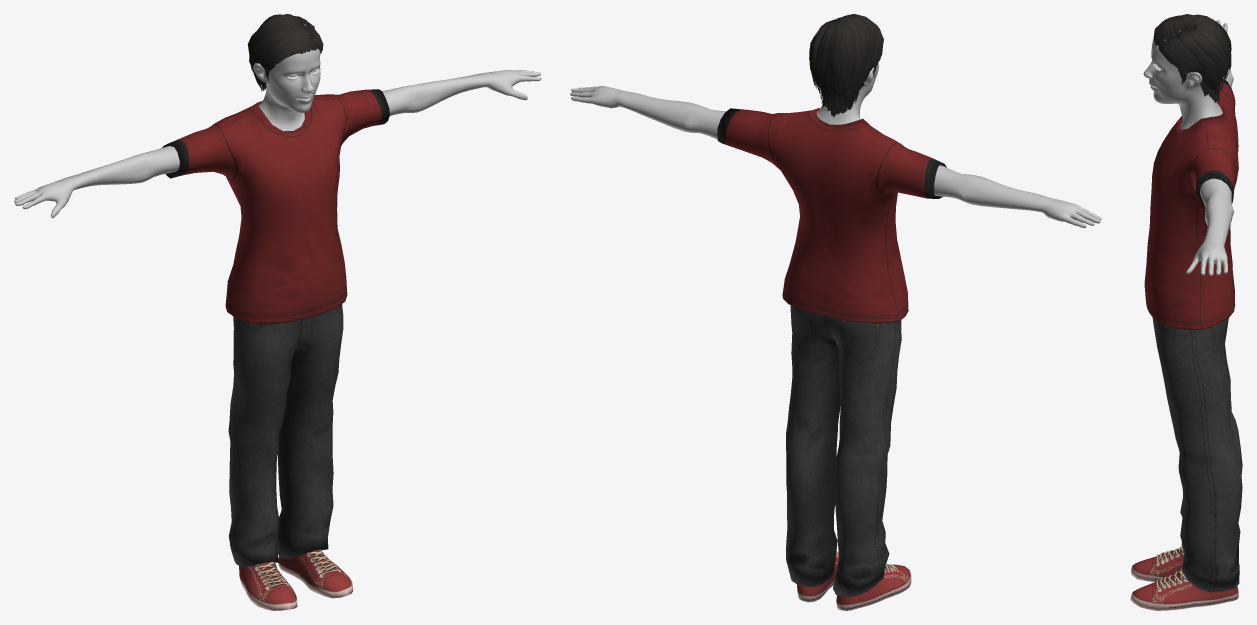
The model's file is visitante.obj.
3 renders of one model, left to right at view 1: azimuth 30°, elevation 25°; view 2: azimuth 150°, elevation 25°; view 3: azimuth 270°, elevation 25°, orthographic.
Parts seen in each view (by area): view 1: Tops, Bottoms, Body, Shoes, Hair; view 2: Bottoms, Tops, Body, Hair, Shoes; view 3: Bottoms, Tops, Body, Hair, Shoes.
Boxes of the visible parts, bbox=[...] form: Tops: bbox=[162, 89, 389, 324]; Bottoms: bbox=[228, 304, 343, 567]; Body: bbox=[14, 24, 541, 218]; Shoes: bbox=[239, 549, 352, 610]; Hair: bbox=[247, 14, 323, 91]; Bottoms: bbox=[786, 305, 901, 597]; Tops: bbox=[717, 108, 946, 322]; Body: bbox=[570, 63, 1101, 228]; Hair: bbox=[809, 14, 883, 117]; Shoes: bbox=[797, 551, 911, 610]; Bottoms: bbox=[1152, 317, 1242, 592]; Tops: bbox=[1144, 79, 1238, 330]; Body: bbox=[1143, 20, 1233, 275]; Hair: bbox=[1153, 14, 1231, 102]; Shoes: bbox=[1130, 546, 1238, 610].
Bounding box in the file's own units: 166 × 172 × 30.5.
